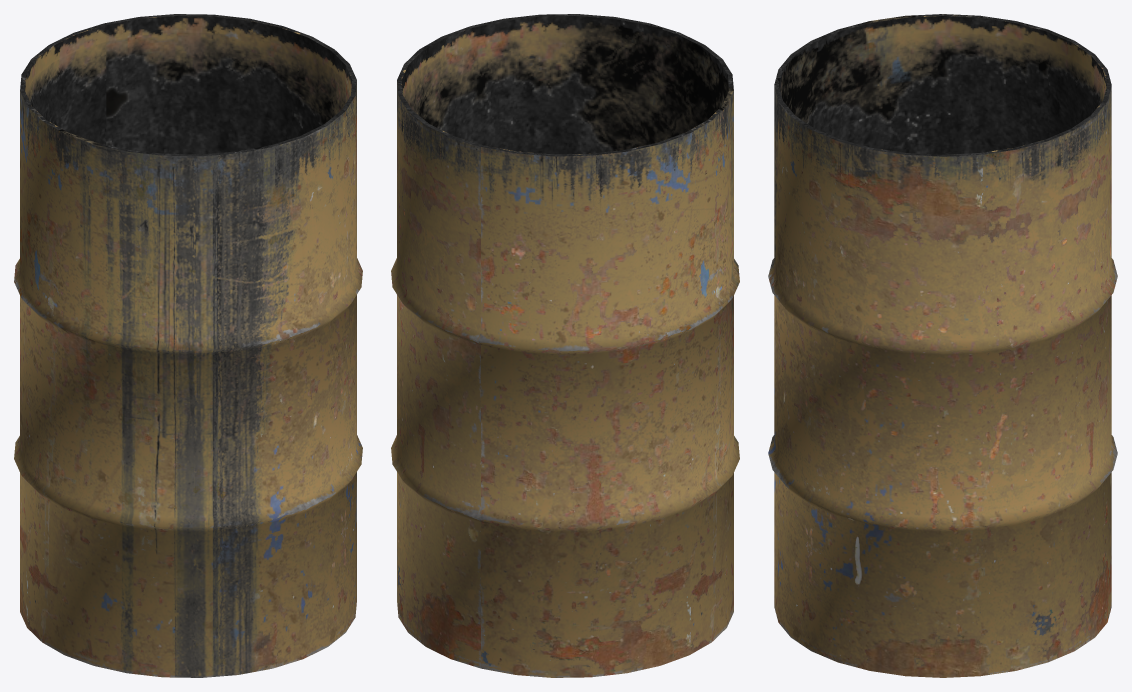
The model's file is brl_empty.FBX.
The picture shows the model from 3 angles, left to right: view 1: azimuth 30°, elevation 25°; view 2: azimuth 150°, elevation 25°; view 3: azimuth 270°, elevation 25°; orthographic projection.
Visible parts, largest first — view 1: brl_empty; view 2: brl_empty; view 3: brl_empty.
Boxes of the visible parts, x1,y1,x2,y2 form: brl_empty: [14, 14, 362, 677]; brl_empty: [391, 14, 739, 677]; brl_empty: [768, 14, 1117, 677].
Size of what is drawn, in the model's own units: 54.74 by 90.04 by 54.74.
Materials: 1 (1 with a texture image).
